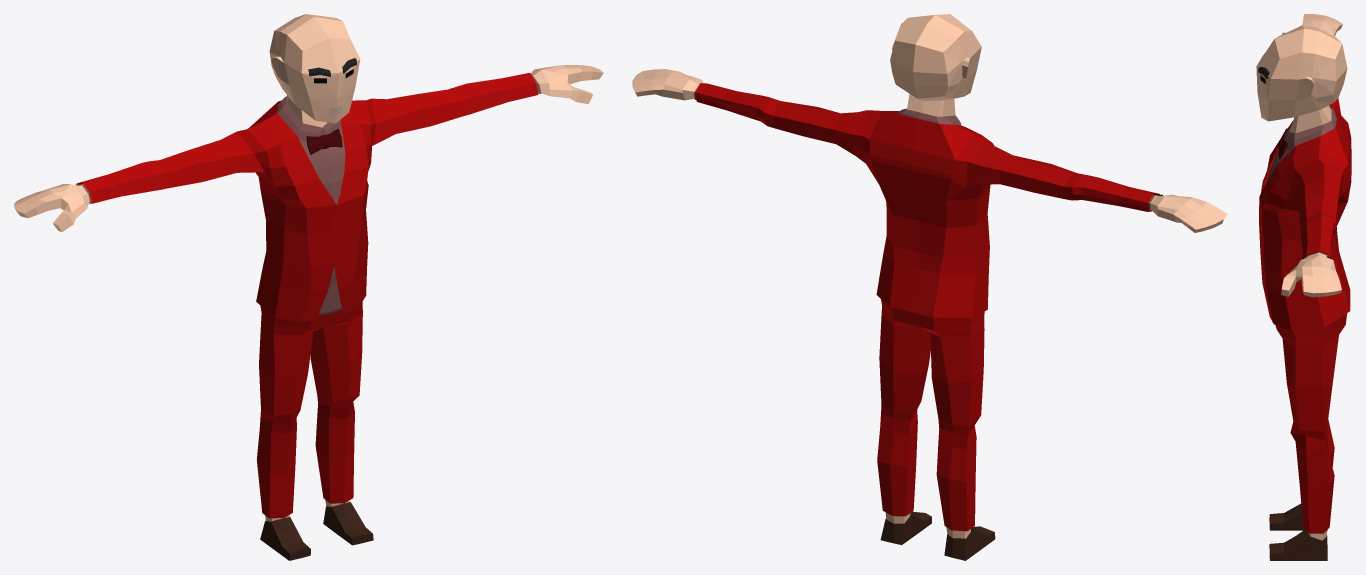
File: NPC_Rojazo_Escenario2_Pajarita.fbx
3 views of the same model, side by side, from view 1: azimuth 30°, elevation 25°; view 2: azimuth 150°, elevation 25°; view 3: azimuth 270°, elevation 25° (orthographic). The views are drawn at different scales.
Parts seen in each view (by area): view 1: Personaje; view 2: Personaje; view 3: Personaje.
Boxes of the visible parts, x1,y1,x2,y2 form: Personaje: (14,14,603,560); Personaje: (632,14,1227,560); Personaje: (1256,14,1351,560).
Size of the model in its own units: 215 by 184 by 30.94.
